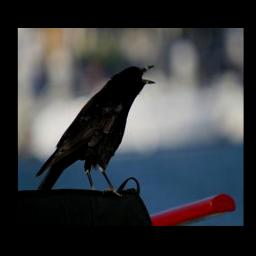Crow: (34, 62, 157, 200)
